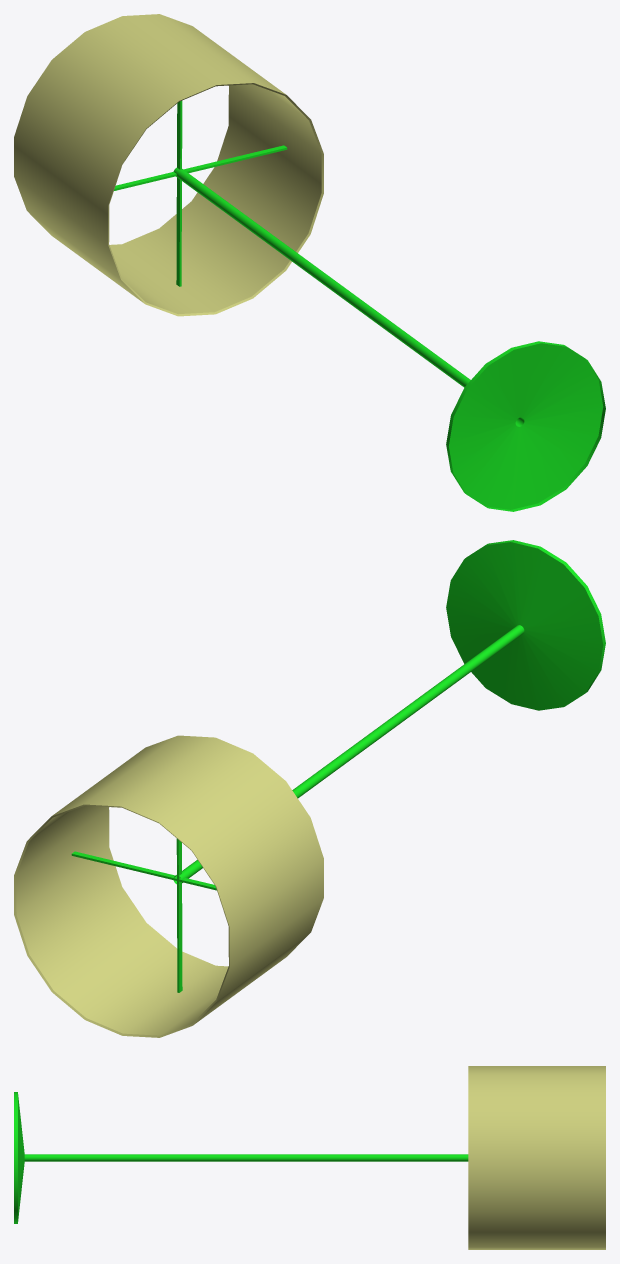
The model's file is torchere_1.FBX.
3 views of the same model, one above another, from view 1: azimuth 30°, elevation 25°; view 2: azimuth 150°, elevation 25°; view 3: azimuth 270°, elevation 25° (orthographic). The views are drawn at different scales.
Visible parts, largest first — view 1: base.003; view 2: base.003; view 3: base.003.
Part boxes in pixels (x1=…): base.003: x1=14, y1=14, x2=605, y2=511; base.003: x1=14, y1=540, x2=605, y2=1037; base.003: x1=14, y1=1066, x2=605, y2=1249.
Size of the model in its own units: 43.95 by 44.59 by 143.
